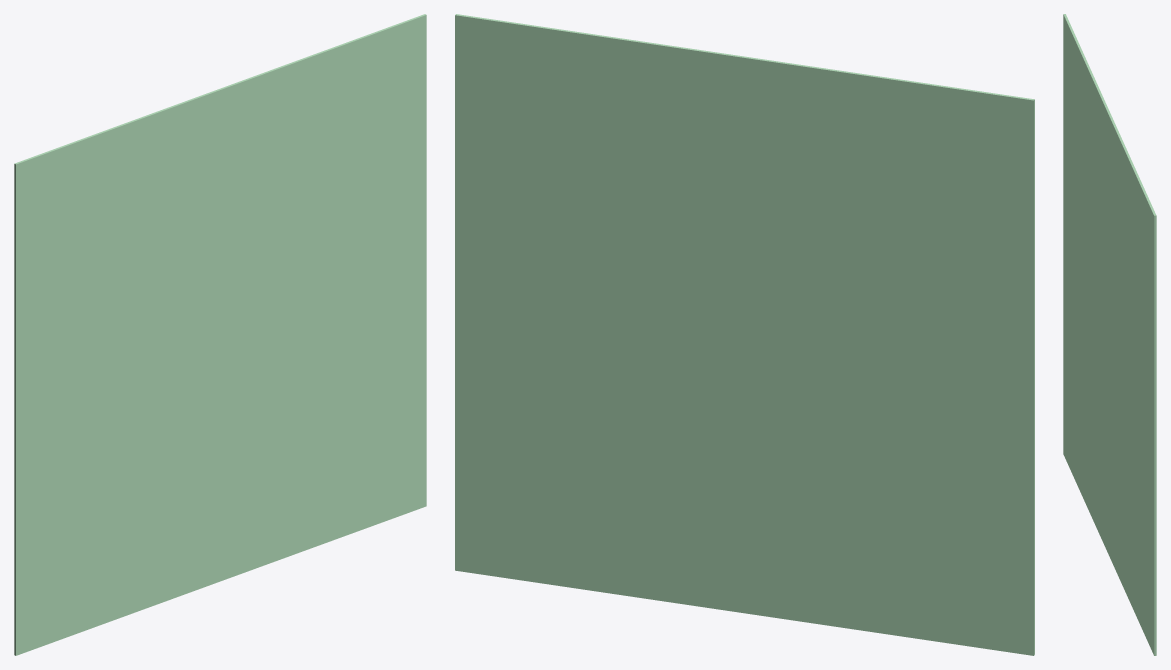
3 renders of one model, left to right at view 1: azimuth 30°, elevation 25°; view 2: azimuth 150°, elevation 25°; view 3: azimuth 270°, elevation 25°, orthographic. The views are drawn at different scales.
Visible parts, largest first — view 1: Plane.002; view 2: Plane.002; view 3: Plane.002.
Boxes of the visible parts, x1,y1,x2,y2 form: Plane.002: [14, 14, 426, 655]; Plane.002: [455, 14, 1034, 655]; Plane.002: [1063, 14, 1156, 655].
Bounding box in the file's own units: 0.2826 × 0.2874 × 0.0551.
